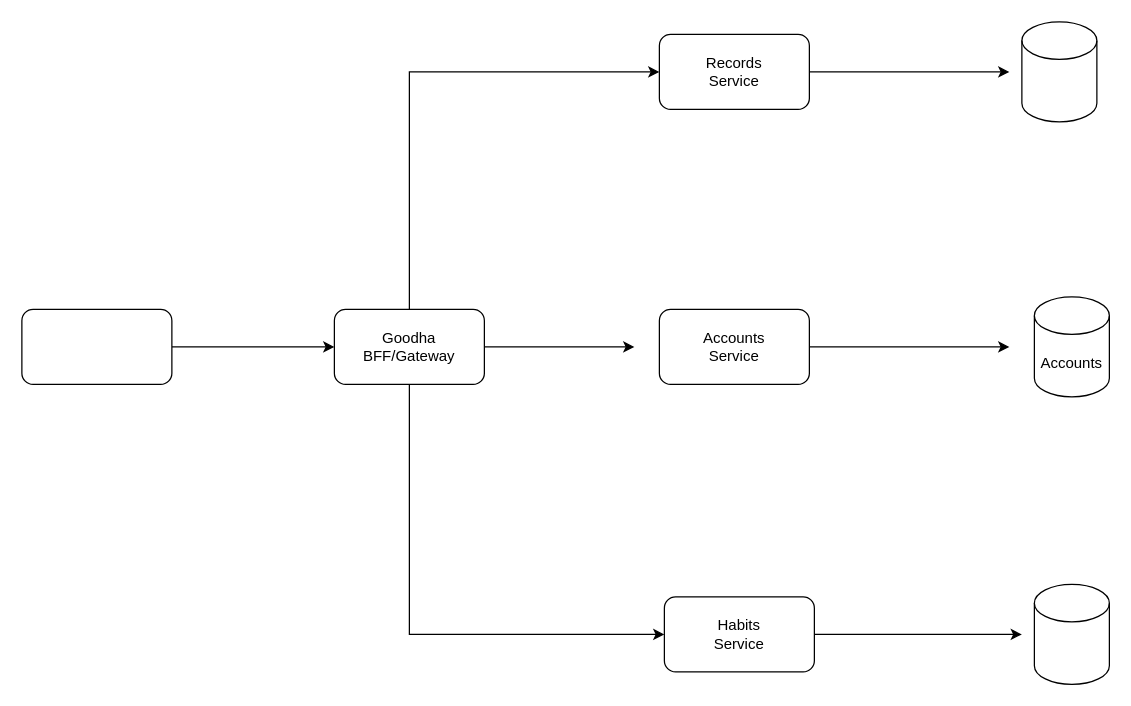
The diagram is 1131 pixels wide and 706 high, and some of its shapes have lost their labels. The shapes that lost their labels are listed below. From the top down, each one's box as (x1, y1, x2, y2) in pixels, then its label:
(1021, 21, 1097, 122): Records
(21, 308, 172, 384): Flutter APP
(1033, 583, 1109, 684): Habits
